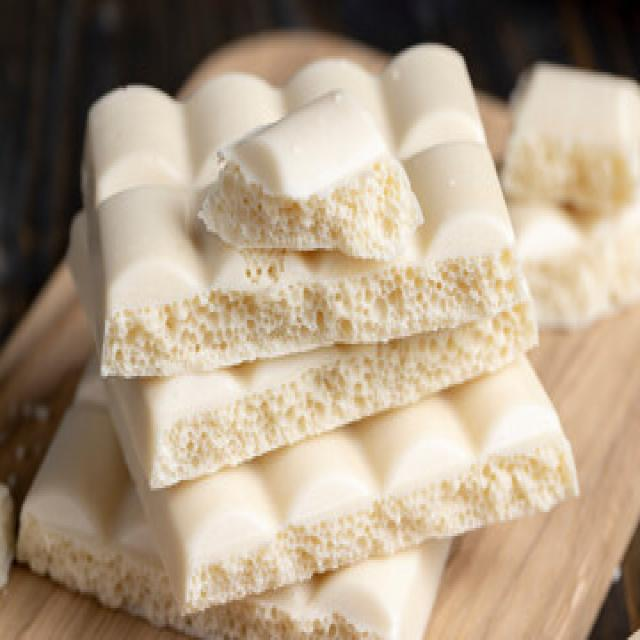Chocolate: (16, 37, 583, 640), (67, 28, 546, 496), (192, 86, 430, 287)
